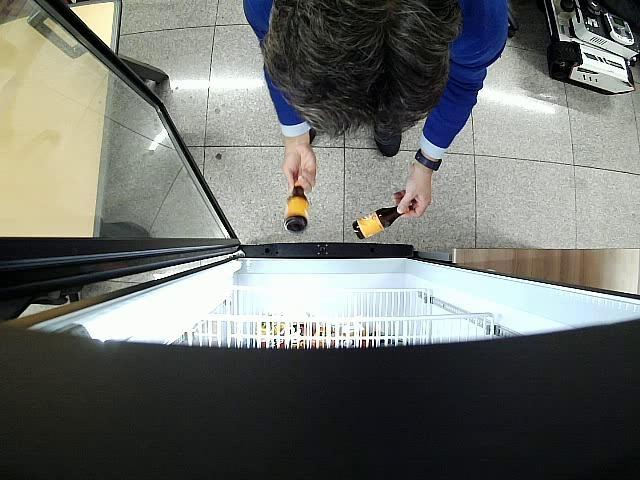17_vita500: (352, 207, 408, 239), (284, 182, 308, 232)
